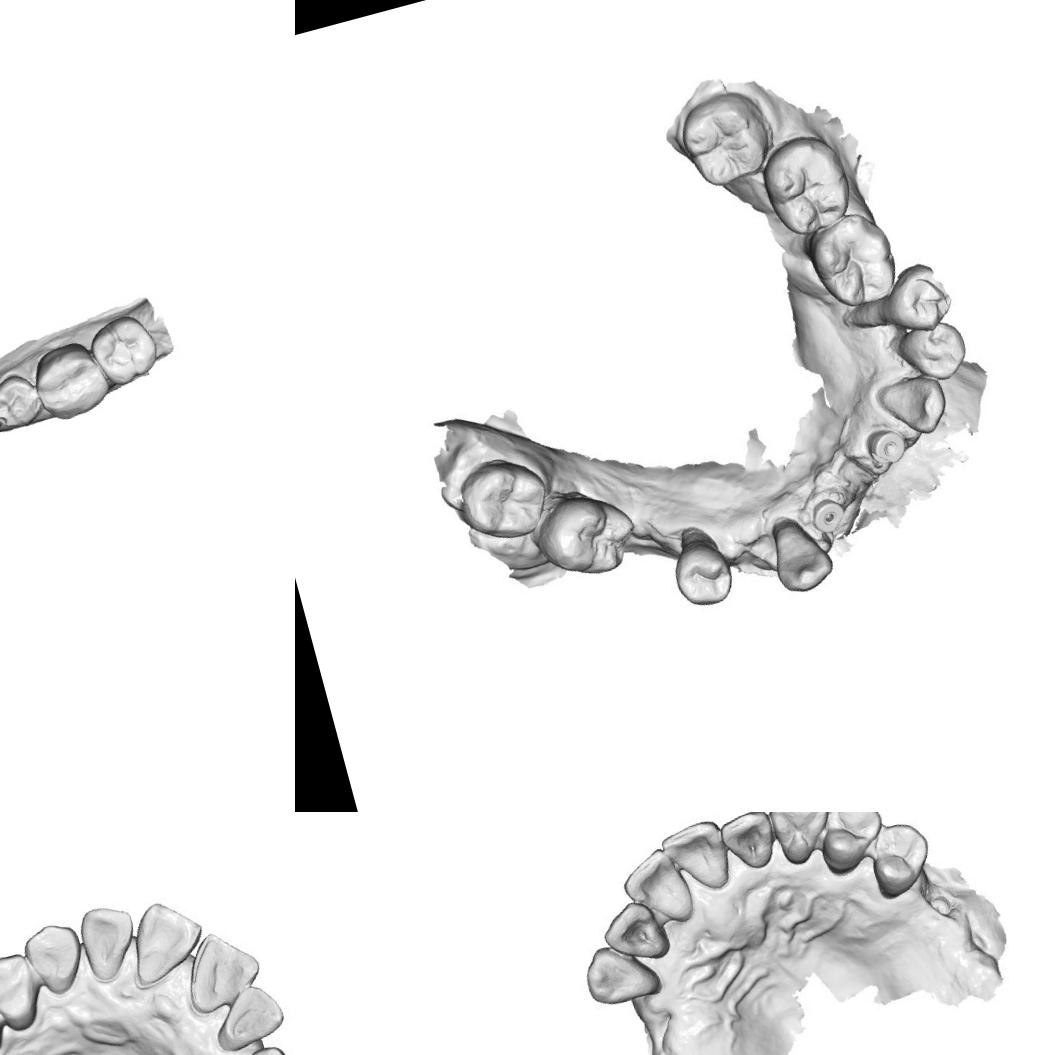canine: (762, 506, 838, 600), (16, 912, 94, 1002), (578, 933, 661, 1014), (870, 365, 952, 444), (758, 812, 835, 870)
implant: (870, 426, 913, 470), (806, 490, 848, 535)
incisor: (173, 922, 273, 1017), (119, 892, 208, 985), (202, 976, 291, 1055), (74, 896, 146, 988), (662, 816, 734, 898), (620, 847, 695, 925), (598, 898, 667, 963), (716, 812, 780, 877)
molar: (442, 444, 558, 550), (535, 489, 641, 586), (761, 136, 854, 242), (678, 90, 774, 190), (811, 212, 903, 314), (27, 335, 114, 425), (84, 306, 164, 391)
premolar: (860, 814, 940, 902), (666, 526, 740, 612), (806, 812, 896, 878), (872, 261, 950, 336), (893, 312, 966, 387), (0, 950, 43, 1033), (0, 366, 46, 433)
